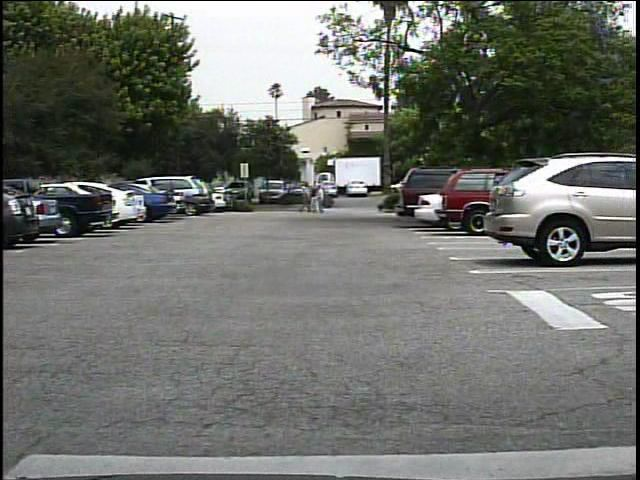person: (313, 185, 331, 215), (298, 185, 313, 215), (309, 186, 322, 217)
